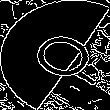O_SE: (14, 24, 96, 86)
